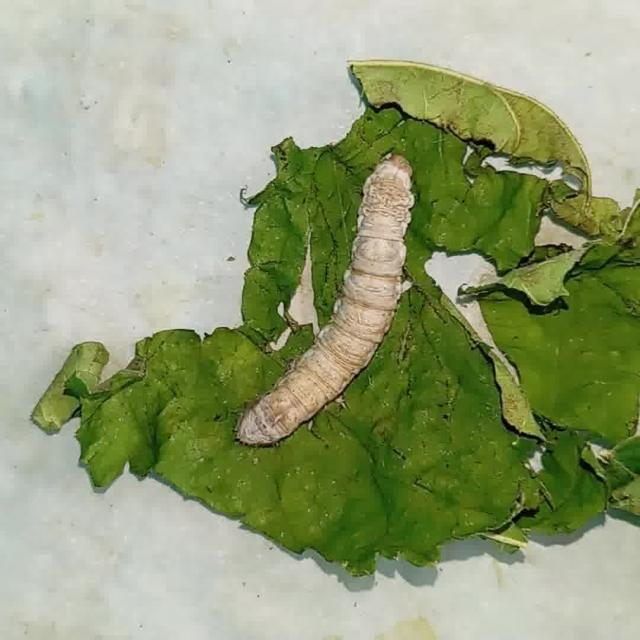Grasserie: (224, 129, 437, 460)
